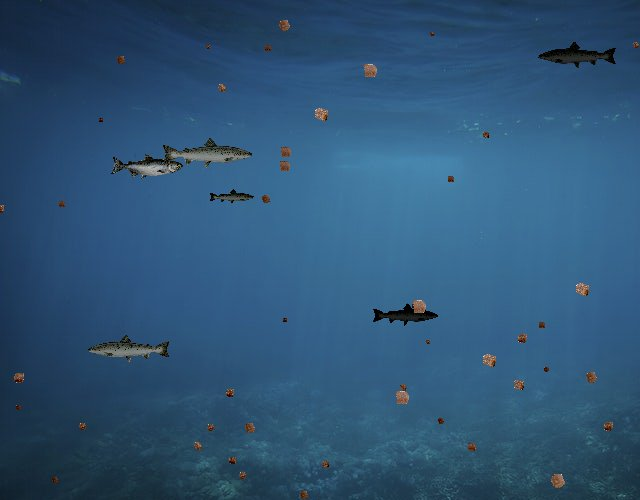Fish: (161, 137, 255, 171), (86, 333, 172, 364), (538, 40, 619, 69), (111, 154, 184, 180), (371, 303, 439, 327), (209, 188, 256, 205)
Pellet: (74, 418, 90, 434), (478, 128, 492, 142), (540, 363, 553, 376), (202, 42, 212, 52)
